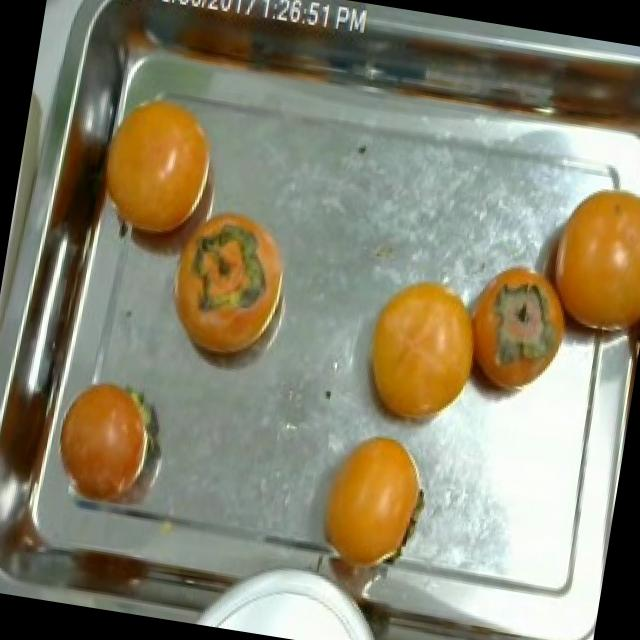Fruit: (86, 74, 245, 280), (343, 258, 499, 452), (296, 416, 444, 594), (162, 191, 301, 375), (521, 160, 640, 372), (450, 247, 584, 420), (46, 363, 174, 522)
